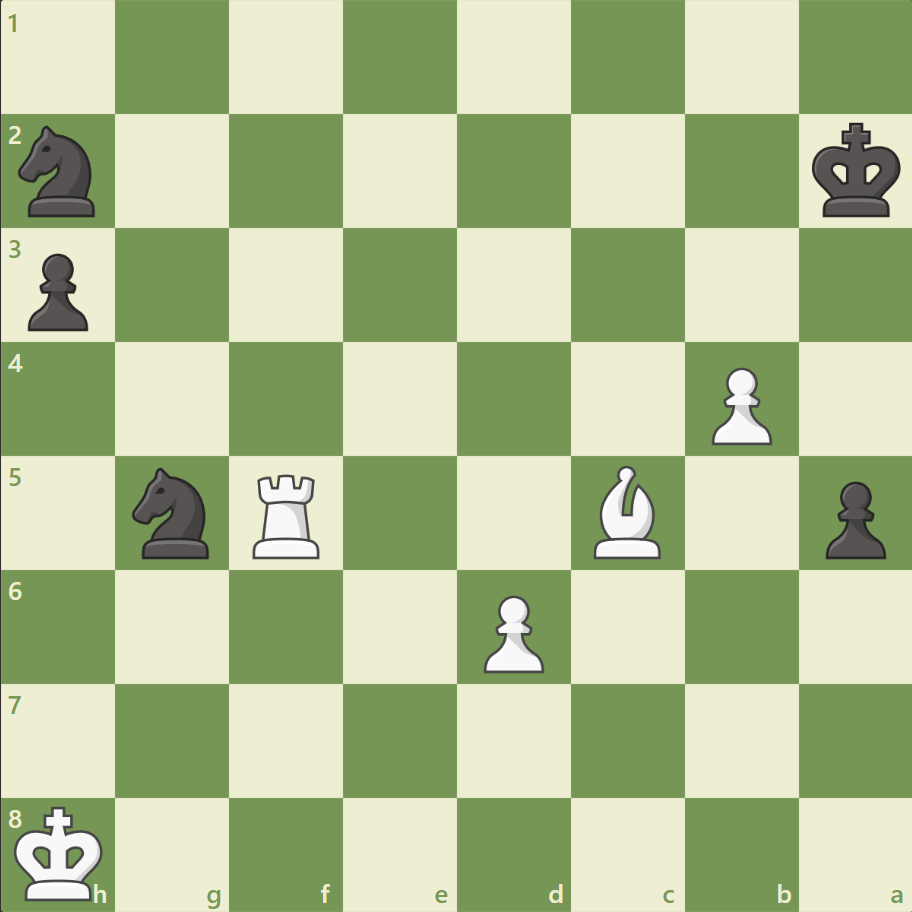B: (585, 460, 669, 563)
K: (11, 798, 111, 906)
P: (474, 586, 549, 677), (701, 359, 776, 450)
R: (246, 466, 329, 563)
k: (806, 117, 906, 225)
n: (124, 461, 222, 564), (11, 121, 108, 223)
p: (20, 246, 95, 337), (815, 473, 889, 564)
